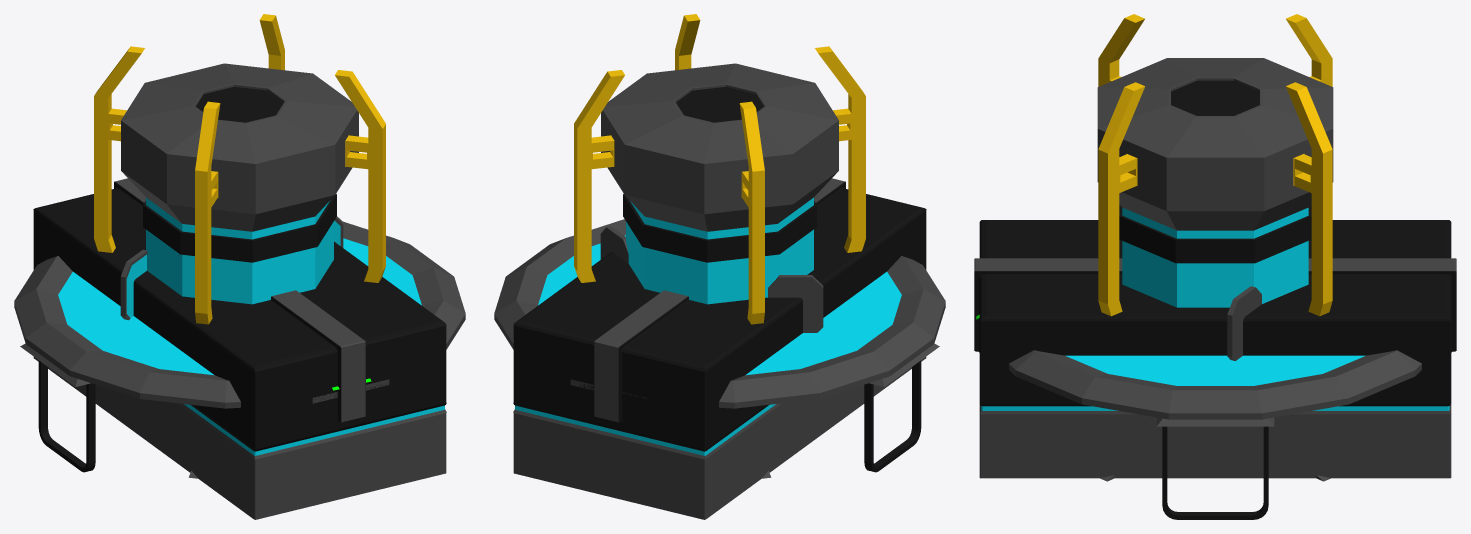
The model's file is AssetsMesh.fbx.
The picture shows the model from 3 angles, left to right: view 1: azimuth 30°, elevation 25°; view 2: azimuth 150°, elevation 25°; view 3: azimuth 270°, elevation 25°; orthographic projection. The views are drawn at different scales.
Visible parts, largest first — view 1: LargeCrate, Reactor, Holotable, Desk; view 2: LargeCrate, Reactor, Holotable, Desk; view 3: LargeCrate, Reactor, Holotable, Desk.
Boxes of the visible parts, x1,y1,x2,y2 form: LargeCrate: [33, 178, 446, 519]; Reactor: [94, 14, 385, 324]; Holotable: [14, 221, 465, 478]; Desk: [20, 216, 343, 472]; LargeCrate: [513, 178, 926, 519]; Reactor: [574, 14, 865, 324]; Holotable: [494, 219, 945, 478]; Desk: [600, 226, 939, 472]; LargeCrate: [974, 220, 1456, 478]; Reactor: [1097, 14, 1333, 478]; Holotable: [976, 314, 1421, 481]; Desk: [1156, 286, 1274, 519].
Bounding box in the file's own units: 400 × 352 × 409.
